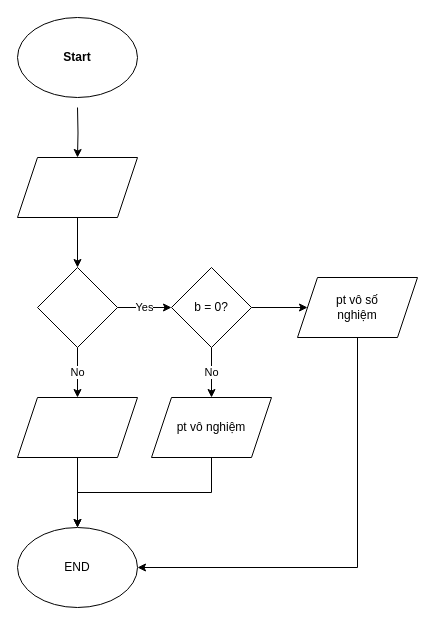
The diagram is 435 pixels wide and 625 high, and some of its shapes have lost their labels. The shapes that lost their labels are listed below. From the top down, each one's centre as x and y in pixels, then its label:
At point 77,187: "Nhâp vào a, b".
At point 77,307: "a = 0?".
At point 77,427: "nghiệm x = -b / a".
